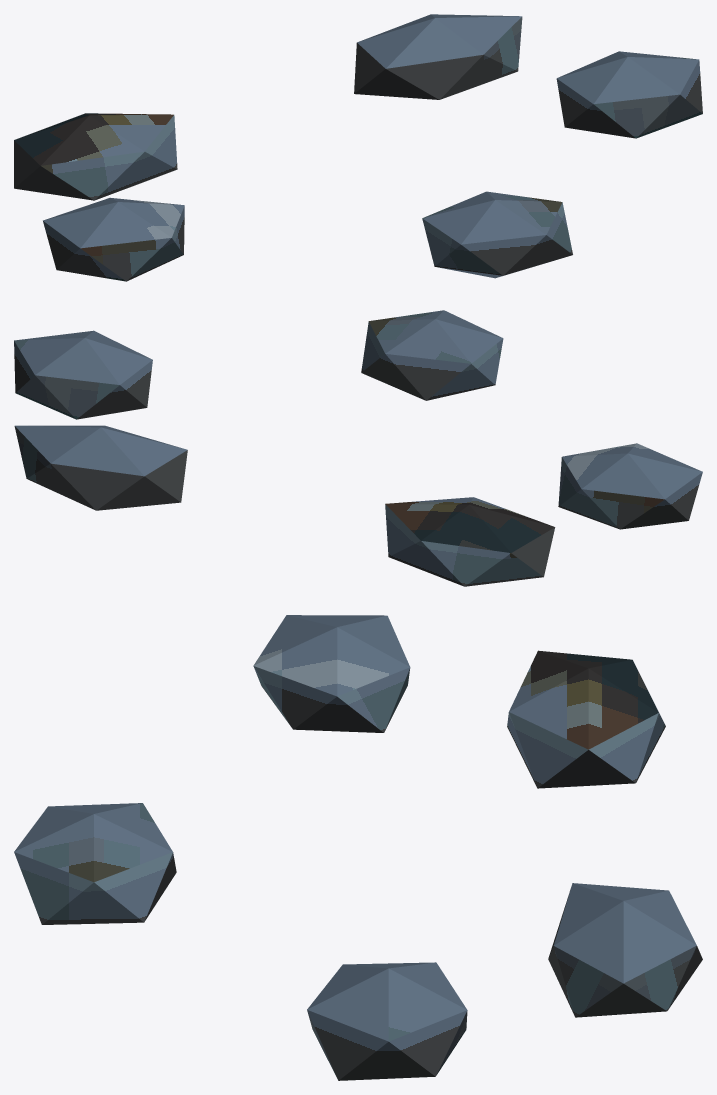
File: enfeite_seixos.fbx
3 renders of one model, top to bottom at view 1: azimuth 30°, elevation 25°; view 2: azimuth 150°, elevation 25°; view 3: azimuth 270°, elevation 25°, orthographic. The views are drawn at different scales.
Parts seen in each view (by area): view 1: pedreira_enfeite_seixos; view 2: pedreira_enfeite_seixos; view 3: pedreira_enfeite_seixos.
Boxes of the visible parts, left/top/right/bottom form: pedreira_enfeite_seixos: left=14, top=14, right=702, bottom=281; pedreira_enfeite_seixos: left=14, top=310, right=702, bottom=586; pedreira_enfeite_seixos: left=14, top=615, right=702, bottom=1080.
Bounding box in the file's own units: 44.73 × 5.23 × 30.27.
Materials: 1 (1 with a texture image).
